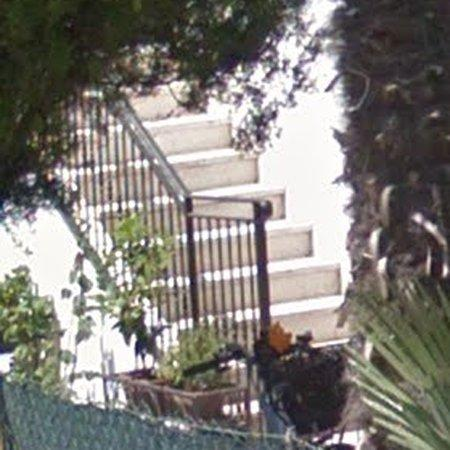stairs: (57, 90, 343, 355)
